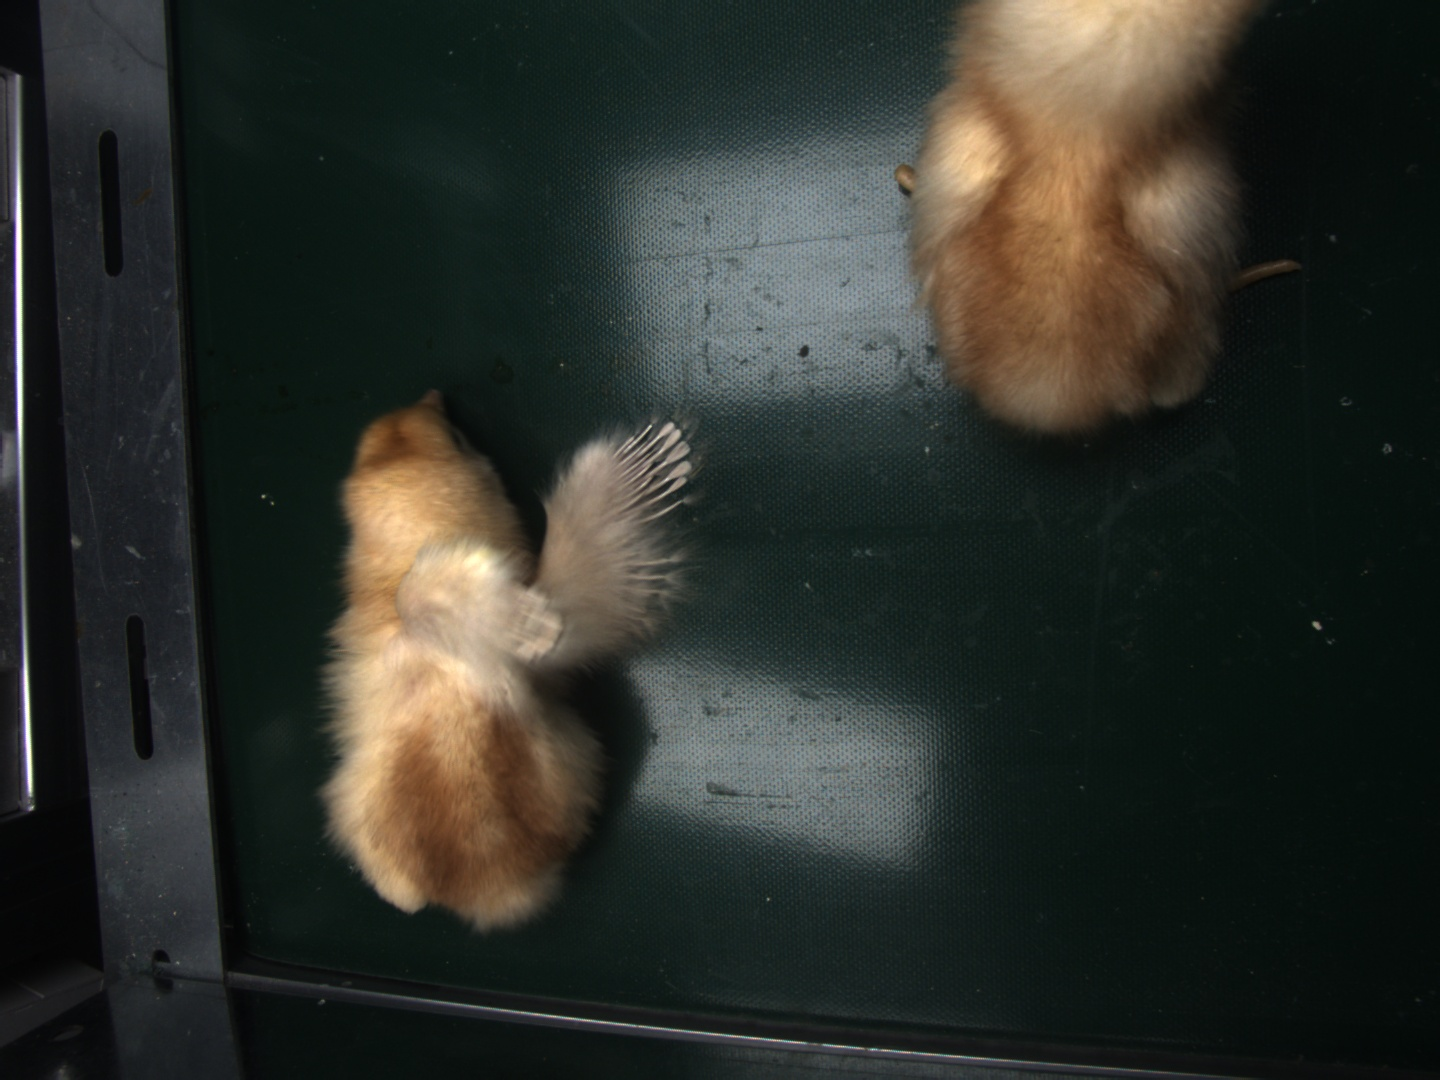female: (611, 414, 694, 526)
